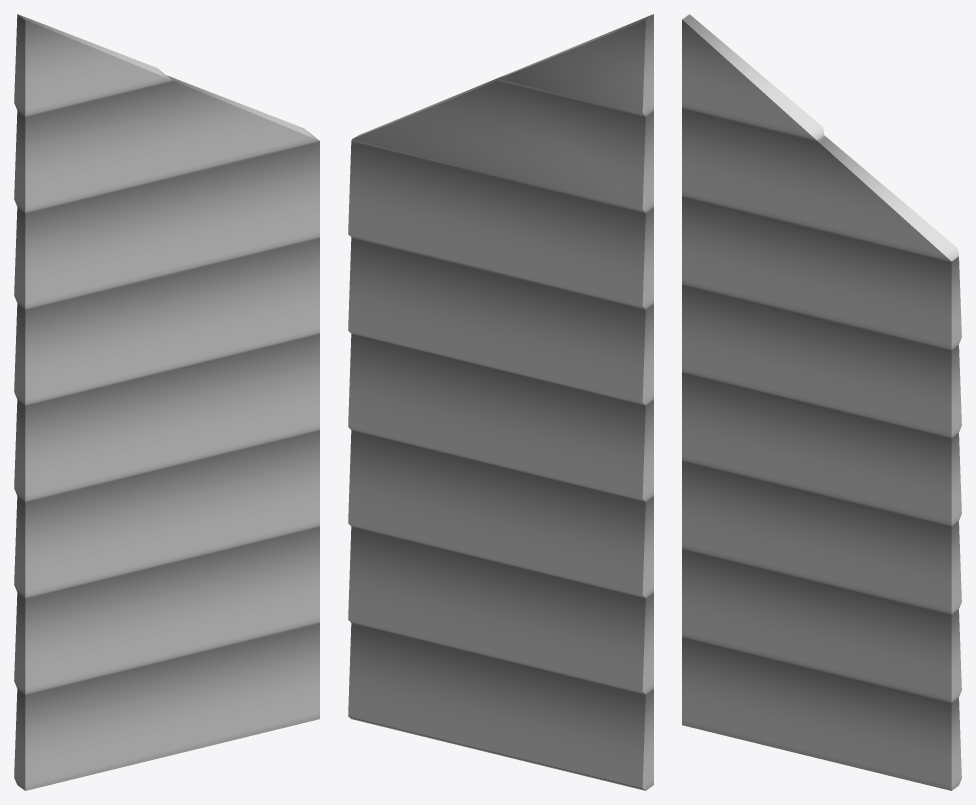
The model's file is Wall_Exterior_Angled_4.fbx.
3 views of the same model, side by side, from view 1: azimuth 30°, elevation 25°; view 2: azimuth 150°, elevation 25°; view 3: azimuth 330°, elevation 25° (orthographic). The views are drawn at different scales.
Parts seen in each view (by area): view 1: Wall_Exterior_Angled_4; view 2: Wall_Exterior_Angled_4; view 3: Wall_Exterior_Angled_4.
Part boxes in pixels (left/top/right/bottom): Wall_Exterior_Angled_4: left=14, top=14, right=319, bottom=790; Wall_Exterior_Angled_4: left=348, top=14, right=653, bottom=790; Wall_Exterior_Angled_4: left=682, top=14, right=961, bottom=790.
Size of the model in its own units: 1 by 2.5 by 0.066.
